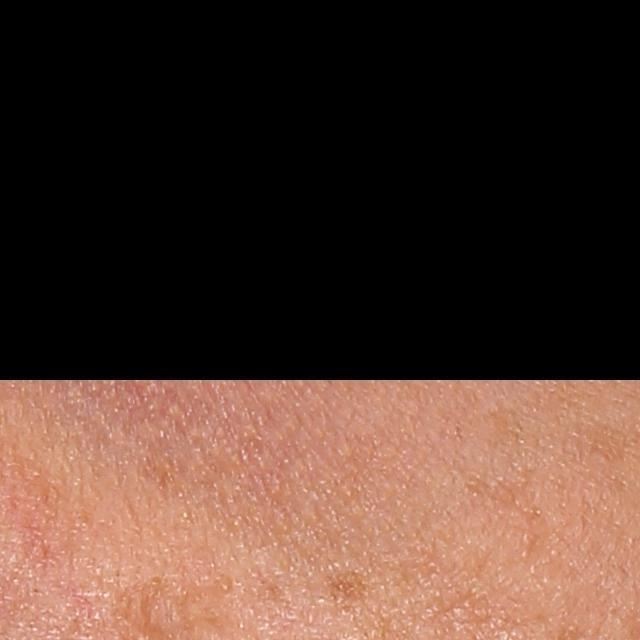melasma: (320, 564, 369, 606)
